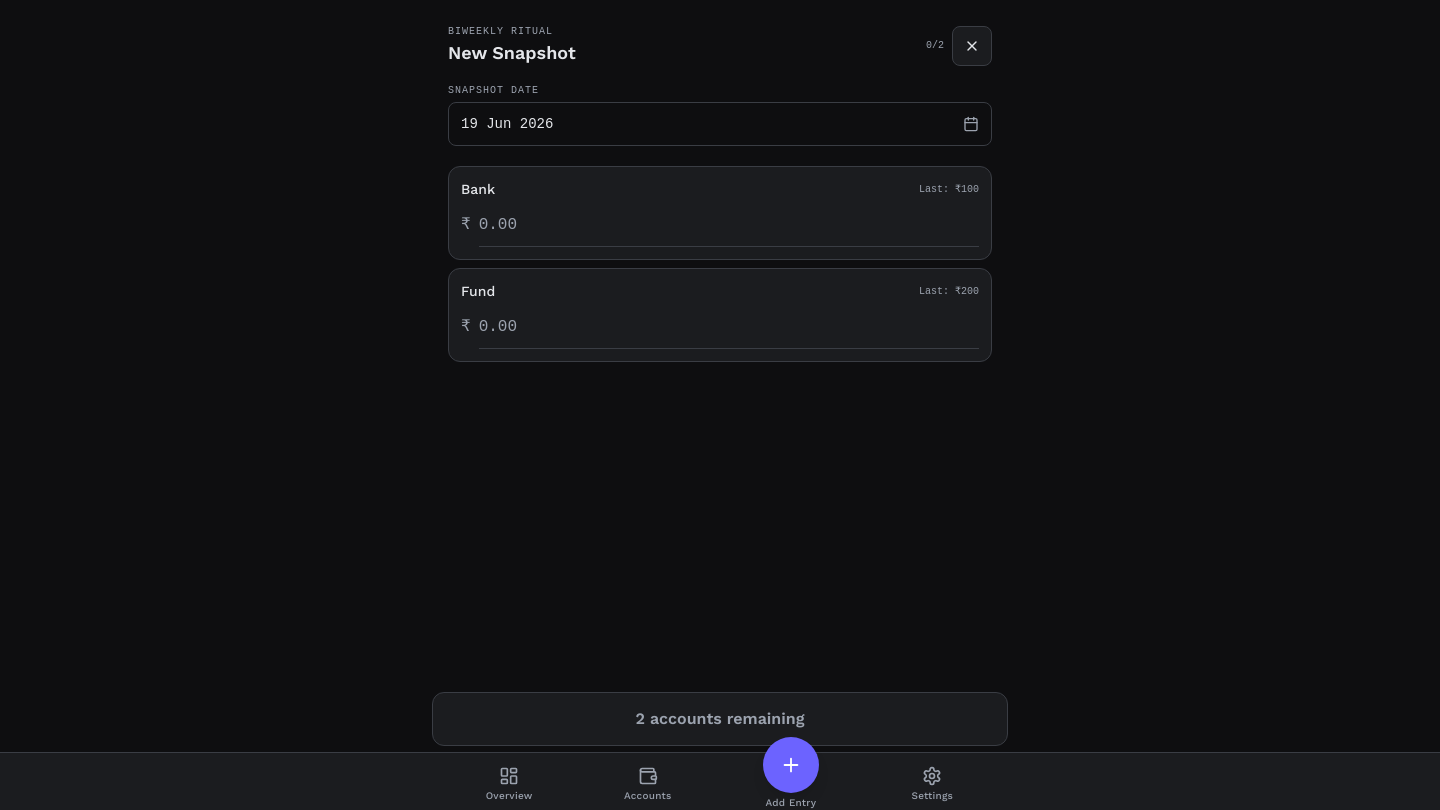
AddEntry › enables submit only when every account value is filled
Expected: the button "2 accounts remaining" is disabled, [432,692,1008,746]
In the number field named "Bank current value": (729, 225) [479,203,979,247], type "1000"
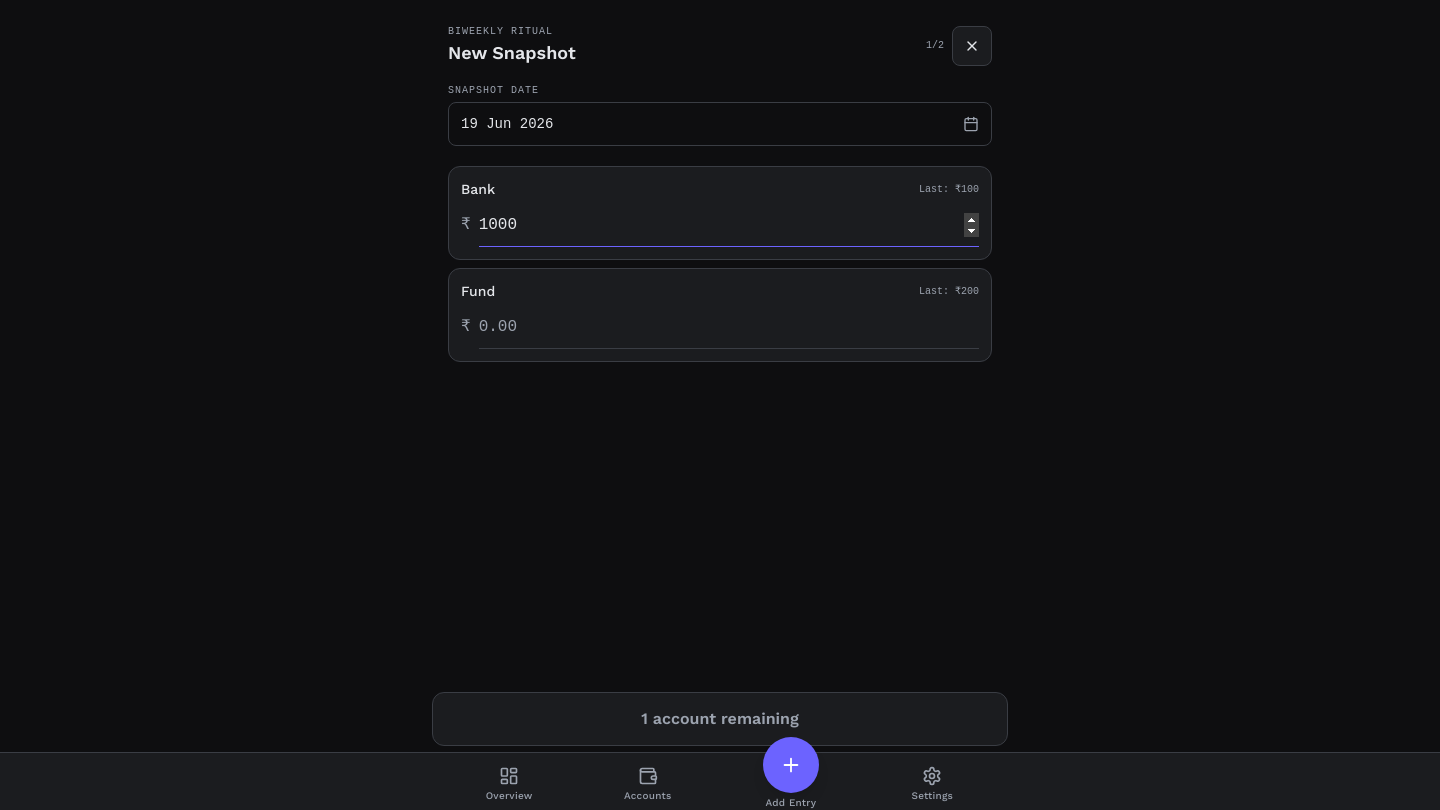
Expected: the button named "accounts remaining" is disabled, [432,692,1008,746]
In the number field named "Fund current value": (729, 327) [479,305,979,349], type "2000"
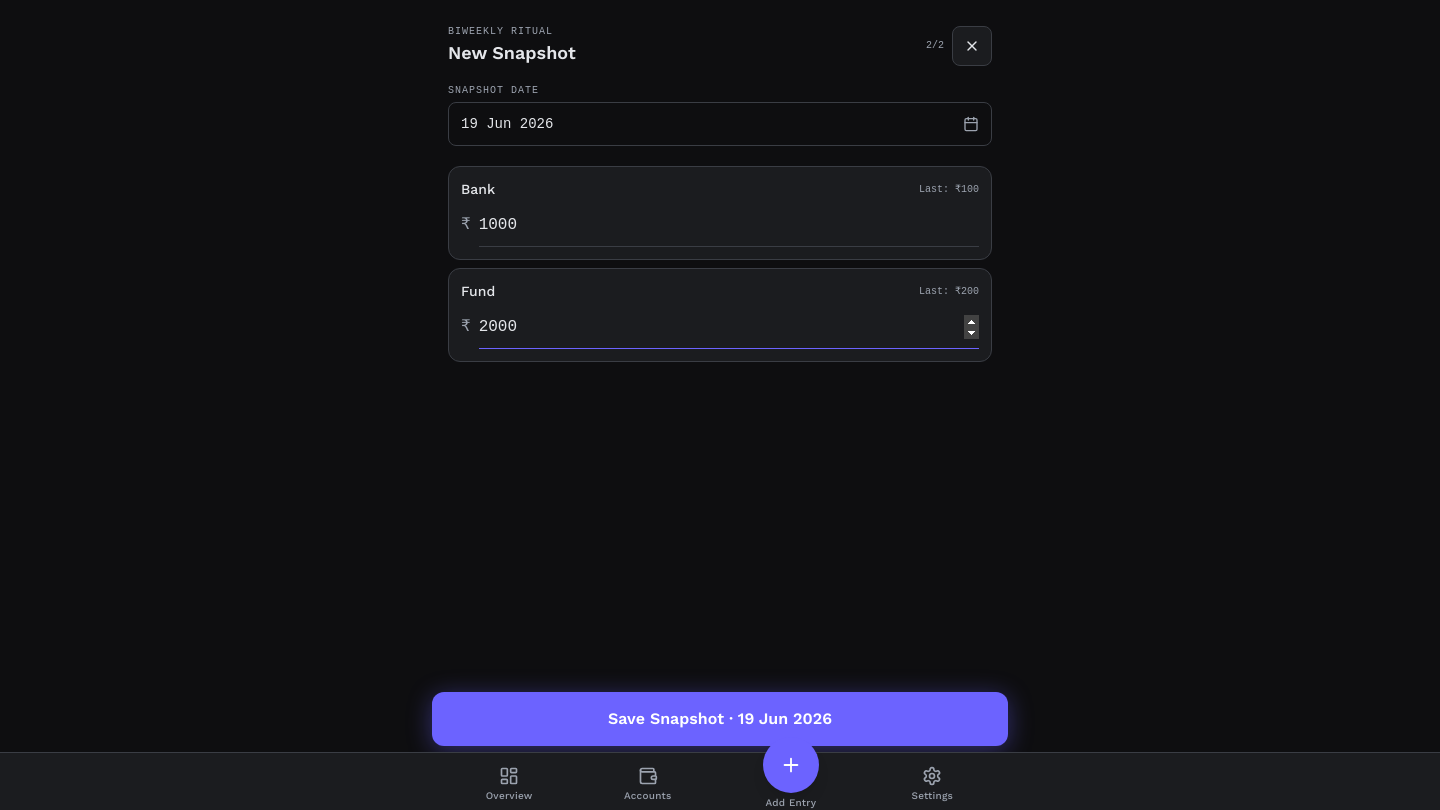
Expected: the button "Save Snapshot · 19 Jun 2026" is enabled, [432,692,1008,746]
